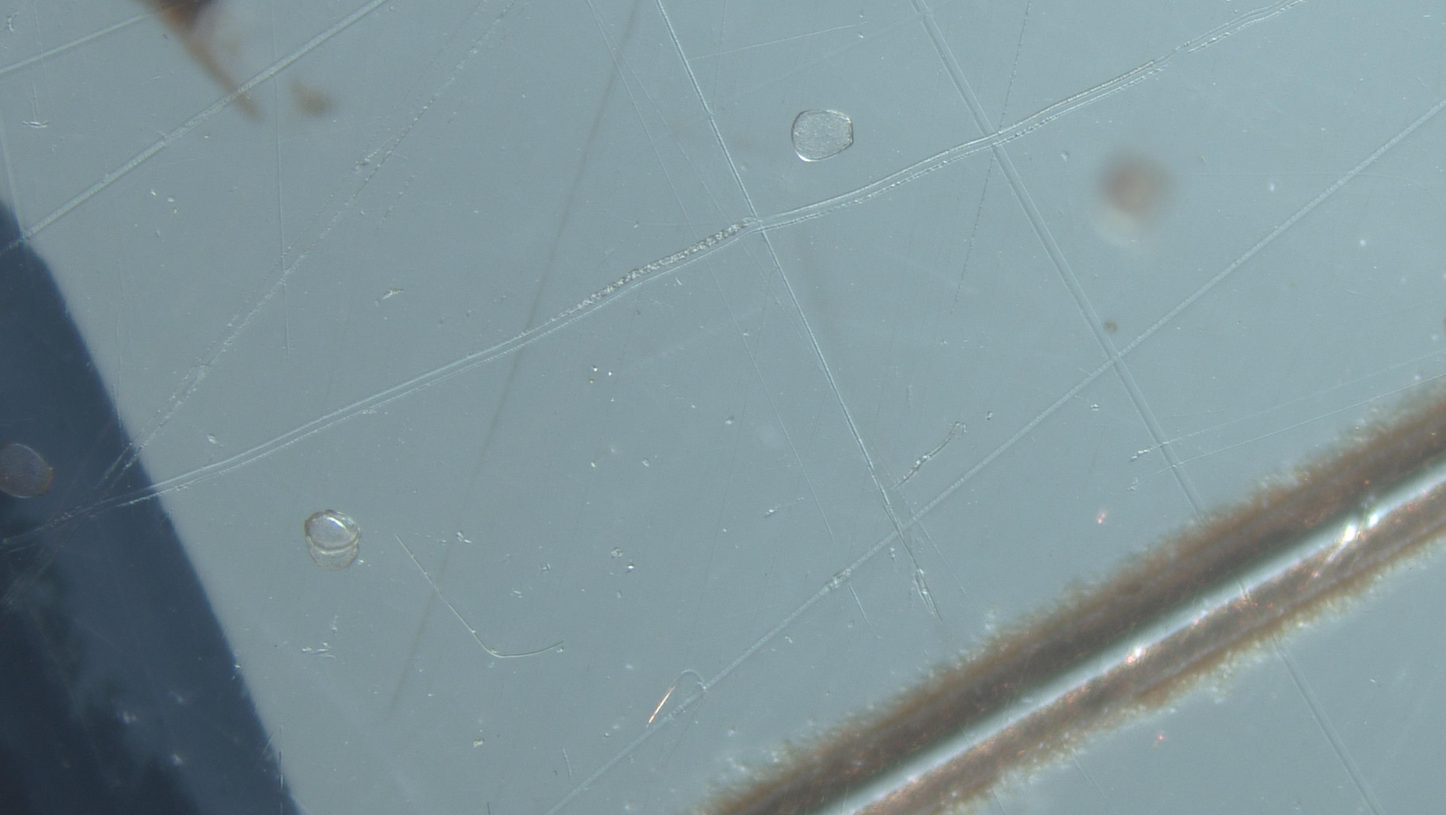dead: (304, 510, 360, 571), (791, 110, 854, 162), (0, 443, 54, 498)
